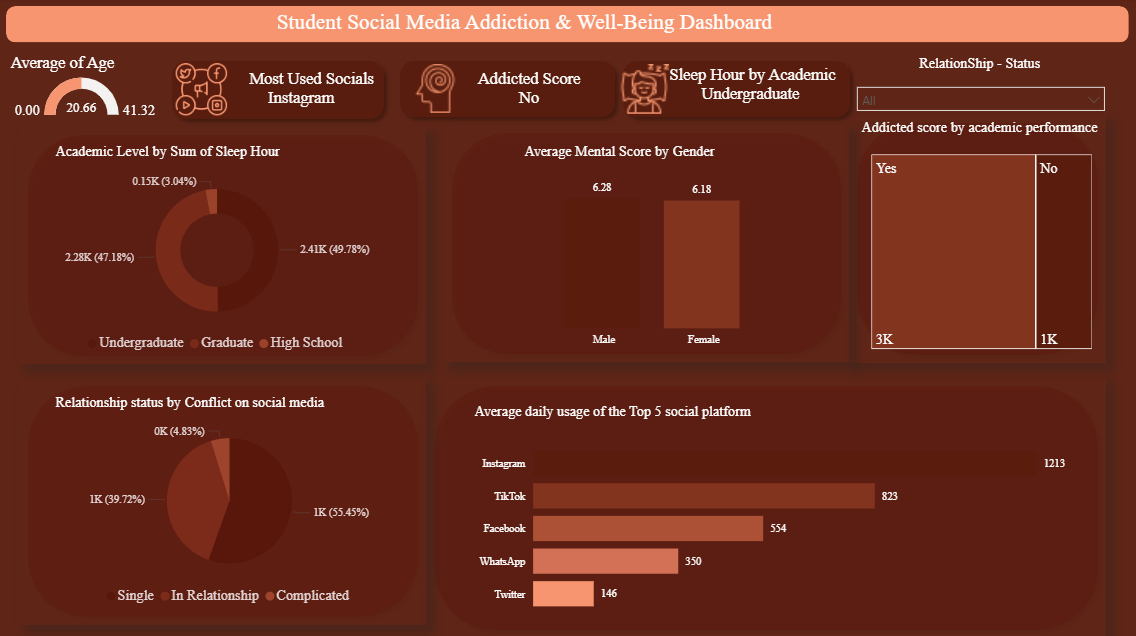

This screenshot's page, from the dashboard's own definition file:
{"tool":"powerbi","page":{"name":"DASHBOARD","canvas":[1280,720],"ordinal":0},"visuals":[{"type":"shape","box":[7.7,9,1263.3,41.1],"z":0},{"type":"donutChart","fields":{"Category":["Students Social Media Addiction.Academic_Level"],"Y":["Sum(Students Social Media Addiction.Sleep_Hours_Per_Night)"]},"box":[38.2,190.1,414,219.4],"z":1000},{"type":"shape","box":[23.6,145.1,456.8,266.6],"z":2000},{"type":"pieChart","fields":{"Category":["Students Social Media Addiction.Relationship_Status"],"Y":["Sum(Students Social Media Addiction.Conflicts_Over_Social_Media)"]},"box":[38.2,470.2,442.1,222.8],"z":3000},{"type":"shape","box":[480.4,427.5,765,292.5],"z":4000},{"type":"barChart","fields":{"Category":["Students Social Media Addiction.Most_Used_Platform"],"Y":["Sum(Students Social Media Addiction.Avg_Daily_Usage_Hours)"]},"box":[529.5,481.9,686.3,223.6],"z":5000},{"type":"shape","box":[23.6,427.5,456.8,277.9],"z":6000},{"type":"shape","box":[500.6,142.9,455.6,266.6],"z":7000},{"type":"columnChart","fields":{"Category":["Students Social Media Addiction.Gender"],"Y":["Avg(Students Social Media Addiction.Mental_Health_Score)"]},"box":[529.5,190.2,413.8,209.5],"z":8000},{"type":"shape","box":[956.1,131.1,289.2,278.9],"z":9000},{"type":"treemap","fields":{"Group":["Students Social Media Addiction.Affects_Academic_Performance"],"Values":["Sum(Students Social Media Addiction.Addicted_Score)"]},"box":[976.7,170.9,258.3,228.8],"z":10000},{"type":"slicer","fields":{"Values":["Students Social Media Addiction.Relationship_Status"]},"box":[954.9,90,299.4,41.1],"z":11000},{"type":"textbox","box":[965.1,59.1,280.2,30.8],"z":12000},{"type":"shape","box":[185.6,61.9,256.5,83.2],"z":13000},{"type":"shape","box":[442.1,61.9,259.9,81],"z":14000},{"type":"shape","box":[693,61.9,273.4,81],"z":15000},{"type":"textbox","box":[185.6,74.2,266.6,76.5],"z":16000},{"type":"textbox","box":[500.6,74.2,191.2,55.1],"z":17000},{"type":"textbox","box":[716.6,69.8,238.5,61.9],"z":18000},{"type":"textbox","box":[58.5,158.6,383.6,41.6],"z":19000},{"type":"textbox","box":[586,158.1,326.4,60.4],"z":20000},{"type":"textbox","box":[965.1,131.1,290.4,39.8],"z":21000},{"type":"textbox","box":[58.5,441,393.8,40.5],"z":22000},{"type":"textbox","box":[529.5,451.1,705.5,55.3],"z":23000},{"type":"textbox","box":[100.1,9,982.1,41.6],"z":24000},{"type":"image","box":[691.9,74.2,67.5,56.2],"z":25000},{"type":"image","box":[185.6,73.1,84.4,58.5],"z":26000},{"type":"image","box":[452.2,74.2,77.6,55.1],"z":27000},{"type":"gauge","fields":{"Y":["Avg(Students Social Media Addiction.Age)"]},"box":[7.9,61.9,177.8,81],"z":28000}]}

Visuals, with their boxes in screenshot pixels (x1, y1, x2, y2), scaled from the page's 1280x720 canvas onto the 1136x636 screenshot:
shape: (7, 8, 1128, 44)
donutChart - Students Social Media Addiction.Academic_Level x Sum(Students Social Media Addiction.Sleep_Hours_Per_Night): (34, 168, 401, 362)
shape: (21, 128, 426, 364)
pieChart - Students Social Media Addiction.Relationship_Status x Sum(Students Social Media Addiction.Conflicts_Over_Social_Media): (34, 415, 426, 612)
shape: (426, 378, 1105, 635)
barChart - Students Social Media Addiction.Most_Used_Platform x Sum(Students Social Media Addiction.Avg_Daily_Usage_Hours): (470, 426, 1079, 623)
shape: (21, 378, 426, 623)
shape: (444, 126, 849, 362)
columnChart - Students Social Media Addiction.Gender x Avg(Students Social Media Addiction.Mental_Health_Score): (470, 168, 837, 353)
shape: (849, 116, 1105, 362)
treemap - Students Social Media Addiction.Affects_Academic_Performance x Sum(Students Social Media Addiction.Addicted_Score): (867, 151, 1096, 353)
slicer - Students Social Media Addiction.Relationship_Status: (847, 80, 1113, 116)
textbox: (857, 52, 1105, 79)
shape: (165, 55, 392, 128)
shape: (392, 55, 623, 126)
shape: (615, 55, 858, 126)
textbox: (165, 66, 401, 133)
textbox: (444, 66, 614, 114)
textbox: (636, 62, 848, 116)
textbox: (52, 140, 392, 177)
textbox: (520, 140, 810, 193)
textbox: (857, 116, 1114, 151)
textbox: (52, 390, 401, 425)
textbox: (470, 398, 1096, 447)
textbox: (89, 8, 960, 45)
image: (614, 66, 674, 115)
image: (165, 65, 240, 116)
image: (401, 66, 470, 114)
gauge - Avg(Students Social Media Addiction.Age): (7, 55, 165, 126)
